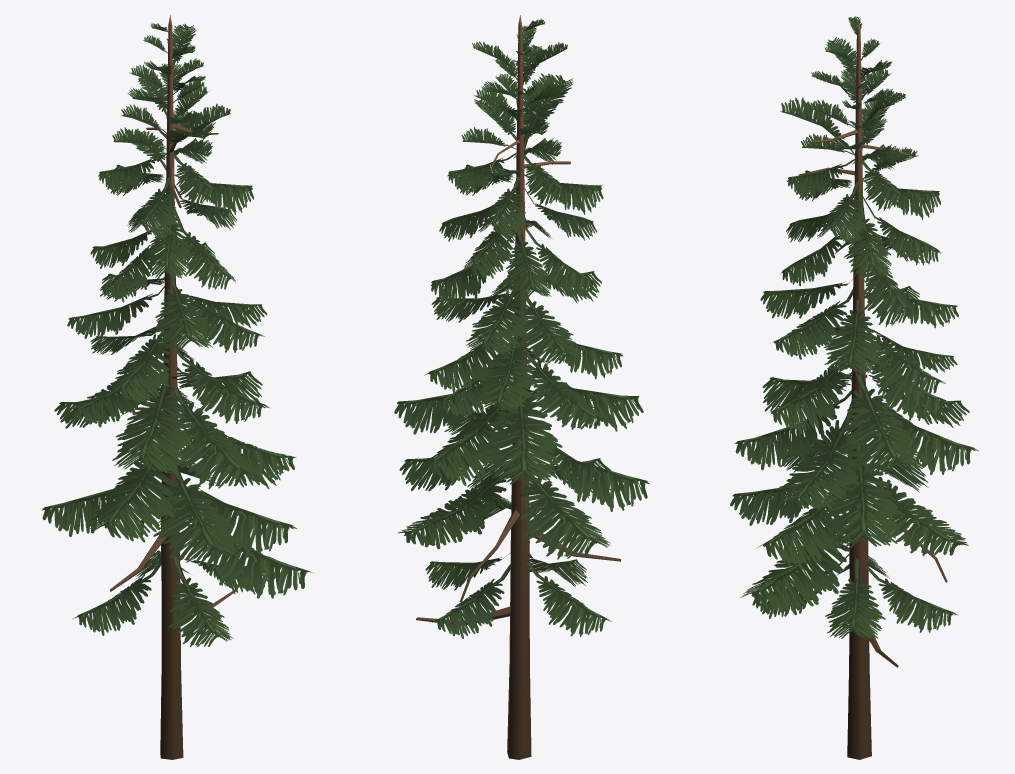
File: Pine_Tree_3G.fbx
3 renders of one model, left to right at view 1: azimuth 30°, elevation 25°; view 2: azimuth 150°, elevation 25°; view 3: azimuth 270°, elevation 25°, orthographic.
Parts seen in each view (by area): view 1: Pine_Tree_3G; view 2: Pine_Tree_3G; view 3: Pine_Tree_3G.
Part boxes in pixels (box(x1,y1,x2,y2)): Pine_Tree_3G: box(41, 15, 314, 759); Pine_Tree_3G: box(394, 15, 649, 759); Pine_Tree_3G: box(730, 16, 978, 759).
Bounding box in the file's own units: 7.11 × 19.22 × 7.02.
